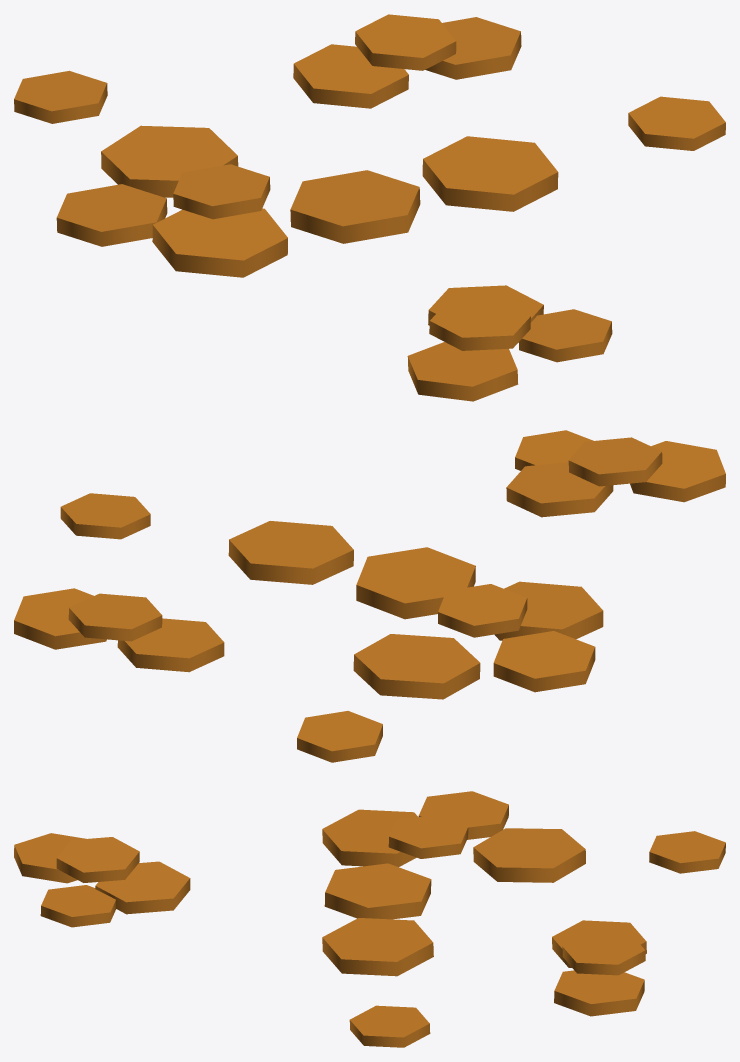
Rendered from SM_coins.fbx.
3 views of the same model, one above another, from view 1: azimuth 30°, elevation 25°; view 2: azimuth 150°, elevation 25°; view 3: azimuth 270°, elevation 25° (orthographic). The views are drawn at different scales.
Parts seen in each view (by area): view 1: Cylinder012; view 2: Cylinder012; view 3: Cylinder012.
Boxes of the visible parts, box(x1,y1,x2,y2) form: Cylinder012: box(14, 14, 725, 401); Cylinder012: box(14, 430, 725, 762); Cylinder012: box(14, 791, 725, 1047).
Bounding box in the file's own units: 17.9 × 22.01 × 1.02.
